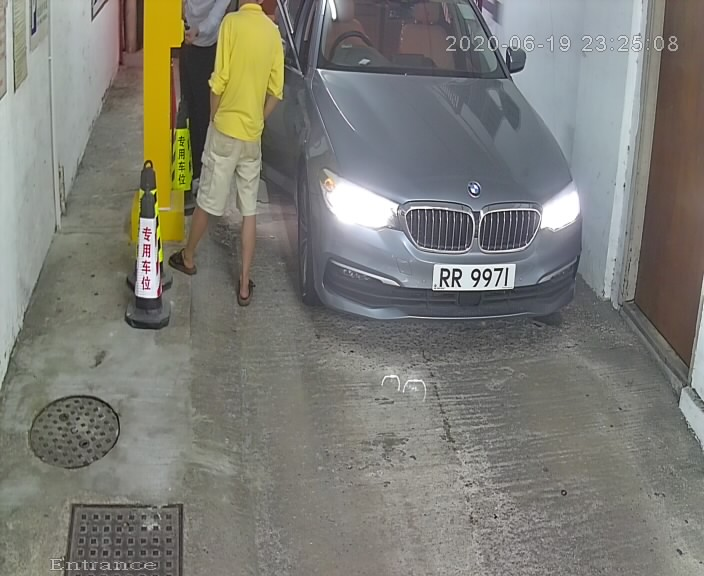privatecar: (279, 3, 599, 336)
